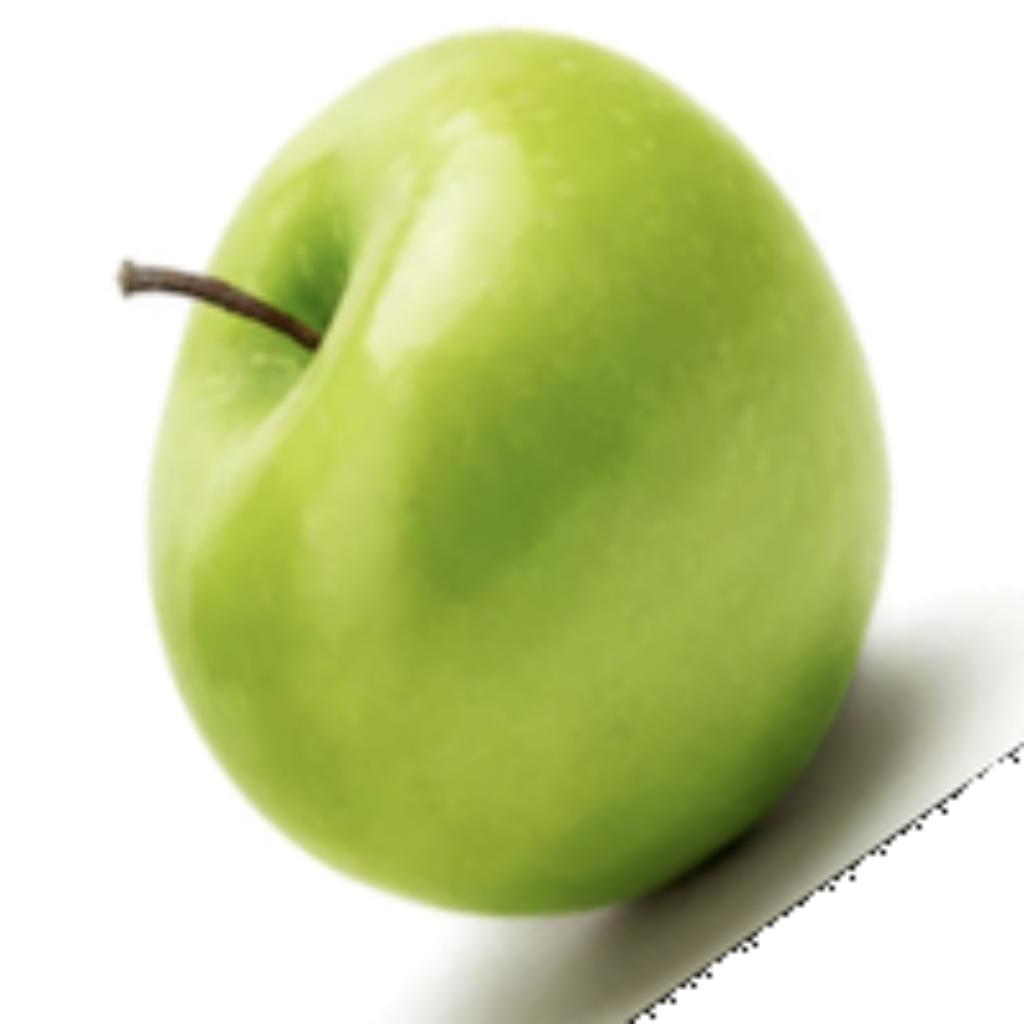apple: (108, 20, 1019, 1019)
